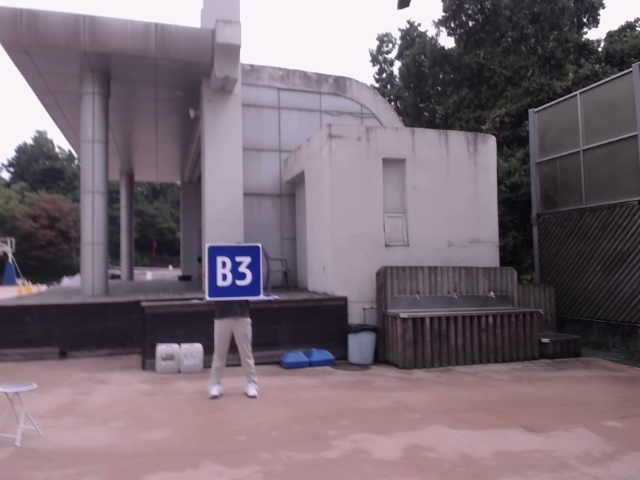delivery_b3: (206, 245, 262, 297)
